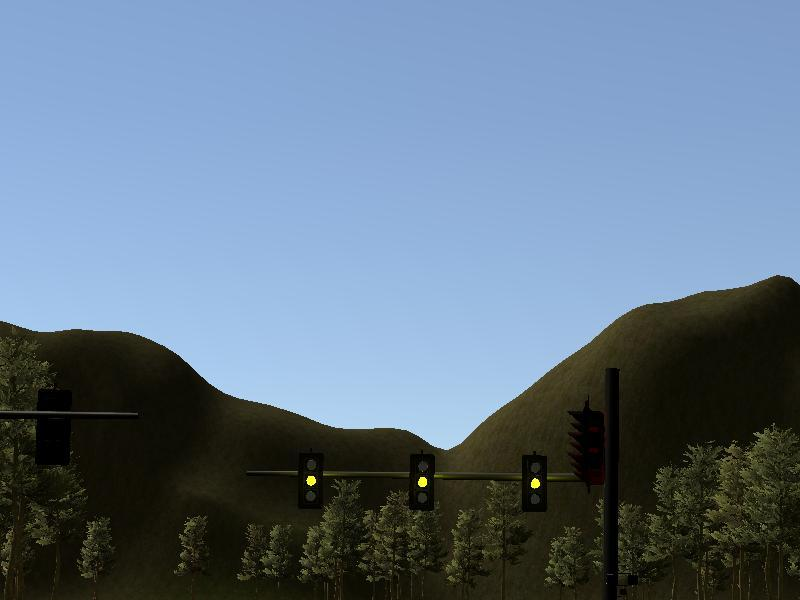Yellow: (520, 457, 548, 511), (299, 454, 322, 508), (411, 452, 432, 510)
